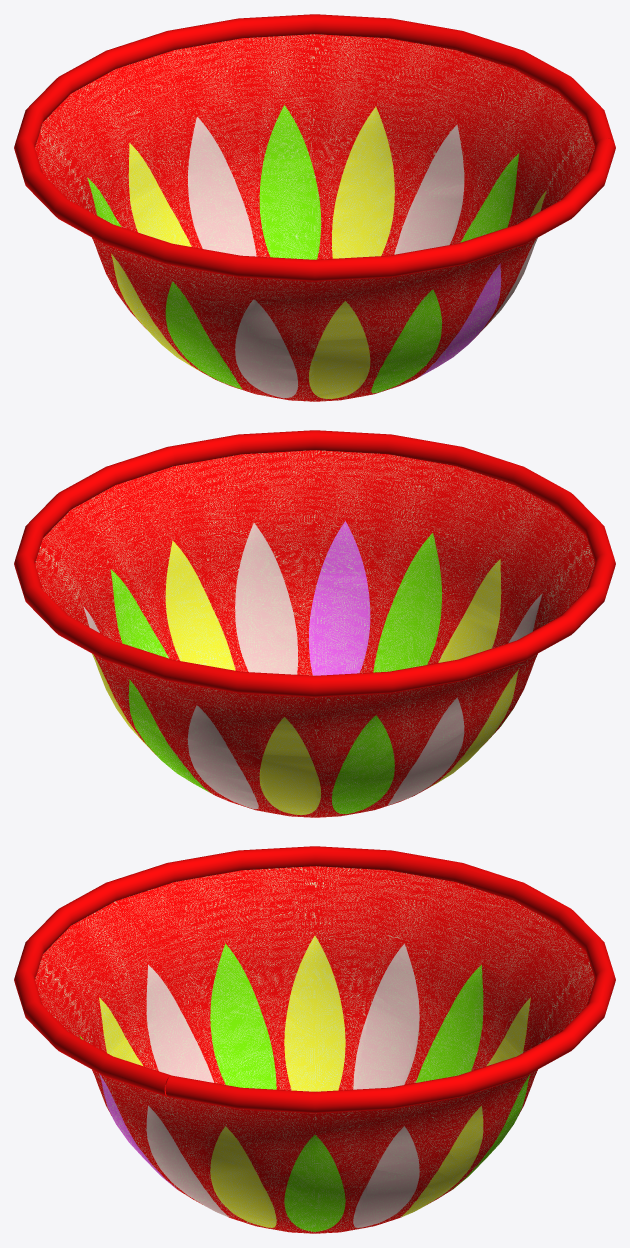
The model's file is katori.dae.
The picture shows the model from 3 angles, top to bottom: view 1: azimuth 30°, elevation 25°; view 2: azimuth 150°, elevation 25°; view 3: azimuth 270°, elevation 25°; orthographic projection.
Visible parts, largest first — view 1: SketchUp (×15); view 2: SketchUp (×15); view 3: SketchUp (×16).
Part boxes in pixels (bbox=[...]): SketchUp (×15): bbox=[14, 14, 615, 401]; SketchUp (×15): bbox=[14, 430, 615, 817]; SketchUp (×16): bbox=[14, 846, 615, 1233].
Bounding box in the file's own units: 132 × 132 × 58.06.
